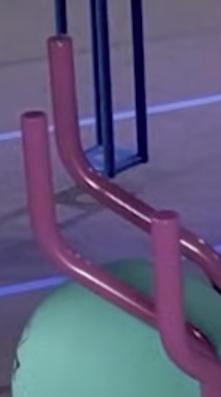algae: (12, 260, 221, 397)
